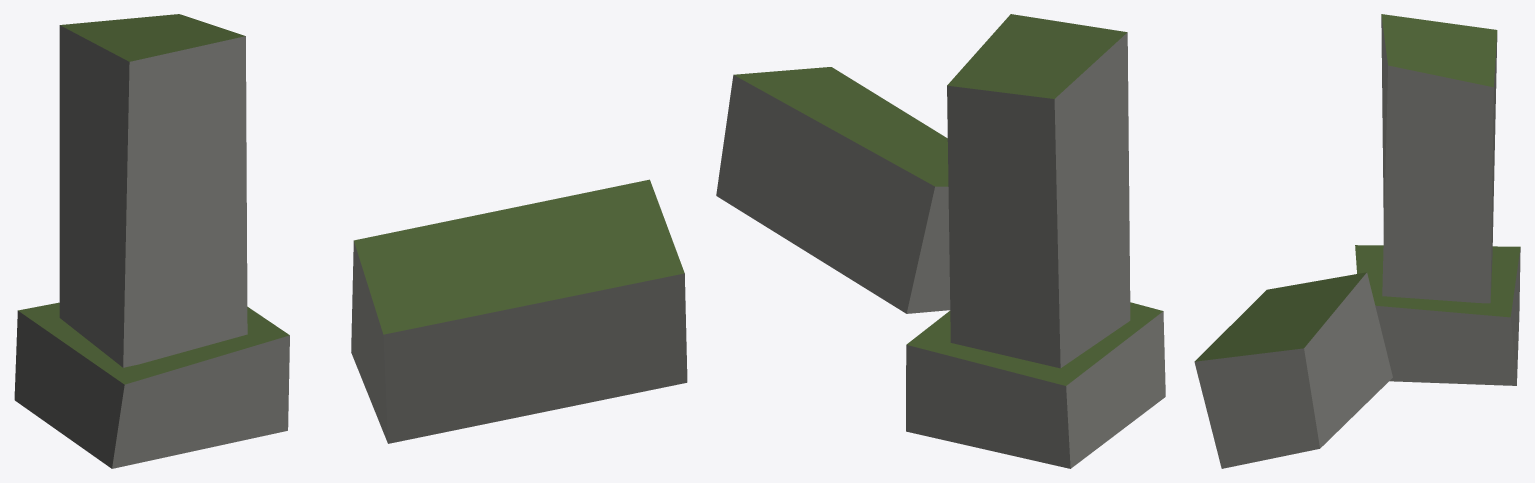
The model's file is PostBroken.fbx.
3 views of the same model, side by side, from view 1: azimuth 30°, elevation 25°; view 2: azimuth 150°, elevation 25°; view 3: azimuth 270°, elevation 25° (orthographic). The views are drawn at different scales.
Visible parts, largest first — view 1: PostBroken; view 2: PostBroken; view 3: PostBroken.
Boxes of the visible parts, box(x1,y1,x2,y2) form: PostBroken: box(14, 14, 687, 468); PostBroken: box(716, 14, 1165, 468); PostBroken: box(1194, 14, 1520, 468).
Size of the model in its own units: 1.91 by 1.44 by 1.35.
